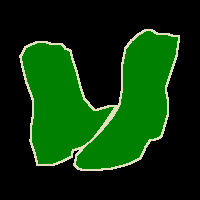shoe: (74, 29, 179, 170), (20, 41, 116, 165)
